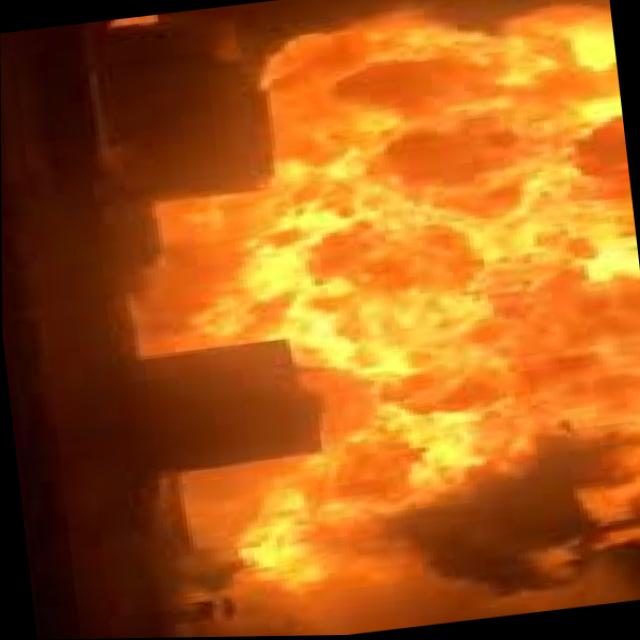Fire: (45, 0, 640, 632)
